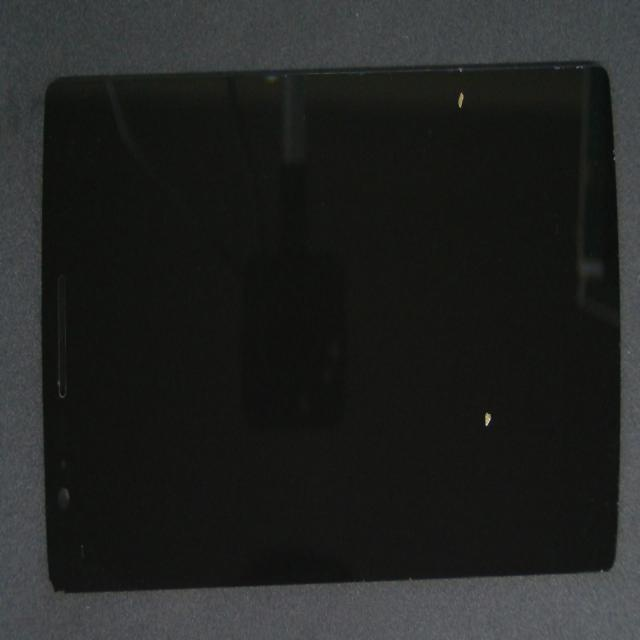stain: (274, 208, 640, 601), (252, 59, 640, 134)
